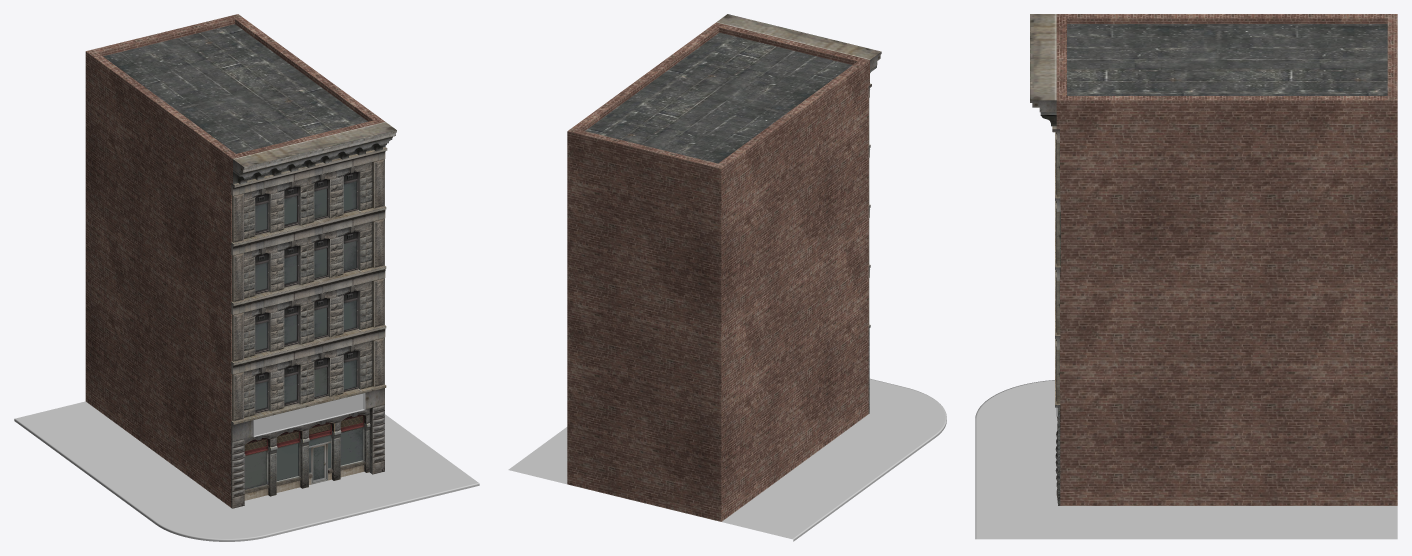
File: Rocky building.fbx
3 renders of one model, left to right at view 1: azimuth 30°, elevation 25°; view 2: azimuth 150°, elevation 25°; view 3: azimuth 270°, elevation 25°, orthographic. The views are drawn at different scales.
Parts seen in each view (by area): view 1: Cylinder.001, Cylinder.003, Road.640, Cylinder.039, Cylinder.002, Cylinder.004; view 2: Cylinder.001, Cylinder.039, Road.640, Cylinder.003; view 3: Cylinder.001, Road.640, Cylinder.039, Cylinder.003.
Part boxes in pixels (<box>): Cylinder.001: <box>85,14,384,507</box>; Cylinder.003: <box>231,122,396,508</box>; Road.640: <box>14,401,479,541</box>; Cylinder.039: <box>103,24,367,153</box>; Cylinder.002: <box>244,181,362,488</box>; Cylinder.004: <box>252,393,365,437</box>; Cylinder.001: <box>567,22,869,521</box>; Cylinder.039: <box>585,32,852,163</box>; Road.640: <box>508,378,946,541</box>; Cylinder.003: <box>716,14,881,413</box>; Cylinder.001: <box>1056,14,1397,505</box>; Road.640: <box>975,380,1397,539</box>; Cylinder.039: <box>1067,24,1387,95</box>; Cylinder.003: <box>1030,14,1060,505</box>.
Bounding box in the file's own units: 9782 × 11660 × 10934.
